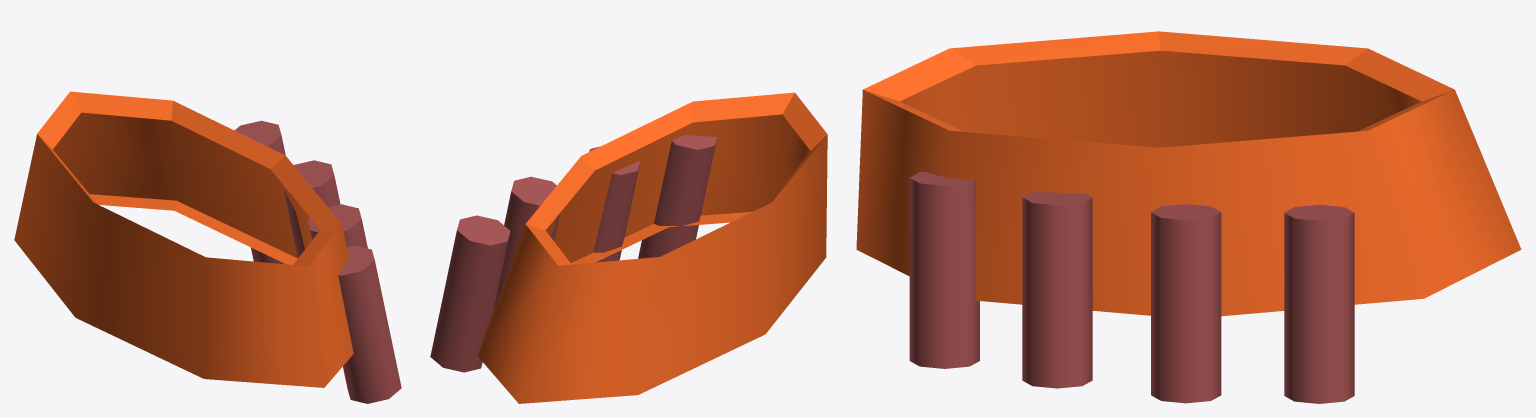
File: Char_CR_Hand_Potions.FBX
3 renders of one model, left to right at view 1: azimuth 30°, elevation 25°; view 2: azimuth 150°, elevation 25°; view 3: azimuth 270°, elevation 25°, orthographic. The views are drawn at different scales.
Parts seen in each view (by area): view 1: Object004; view 2: Object004; view 3: Object004.
Boxes of the visible parts, <box> form: Object004: <box>14,91,401,403</box>; Object004: <box>430,92,827,403</box>; Object004: <box>856,31,1521,403</box>.
Bounding box in the file's own units: 13.71 × 12.04 × 22.54.
